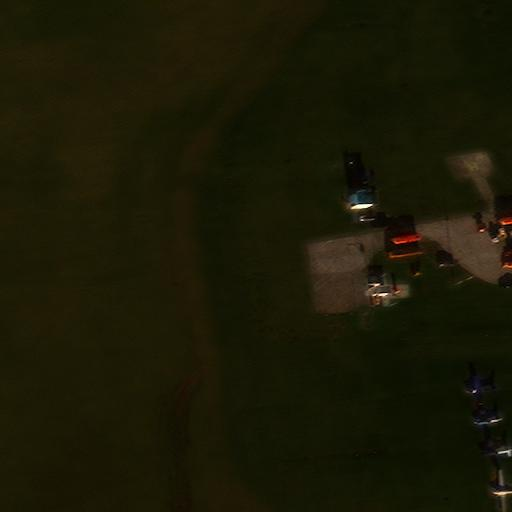Medium Civil Transport: (492, 469, 512, 512)
Small Civil Transport: (465, 375, 499, 405), (480, 435, 512, 465), (473, 409, 503, 433)
